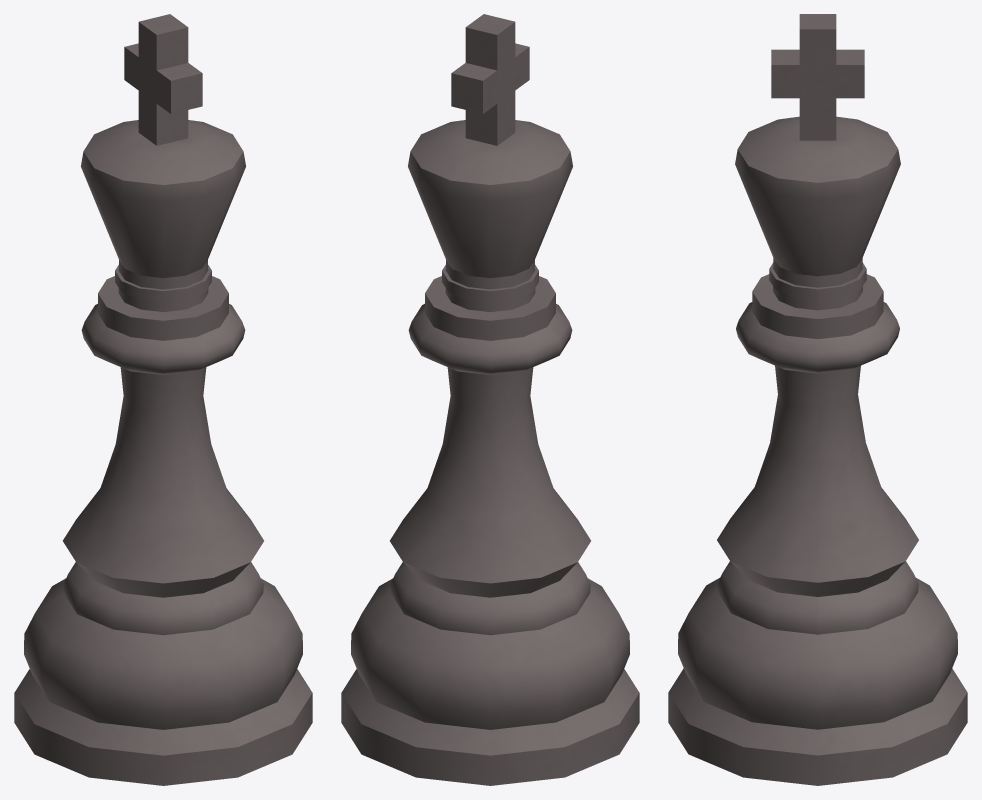
File: Chess_Black_king.fbx
3 views of the same model, side by side, from view 1: azimuth 30°, elevation 25°; view 2: azimuth 150°, elevation 25°; view 3: azimuth 270°, elevation 25° (orthographic).
Visible parts, largest first — view 1: Chess_pawn.004; view 2: Chess_pawn.004; view 3: Chess_pawn.004.
Part boxes in pixels (box(x1,y1,x2,y2)): Chess_pawn.004: box(14, 14, 312, 785); Chess_pawn.004: box(341, 14, 639, 785); Chess_pawn.004: box(668, 14, 967, 785).
Bounding box in the file's own units: 31.07 × 80.34 × 31.07.
